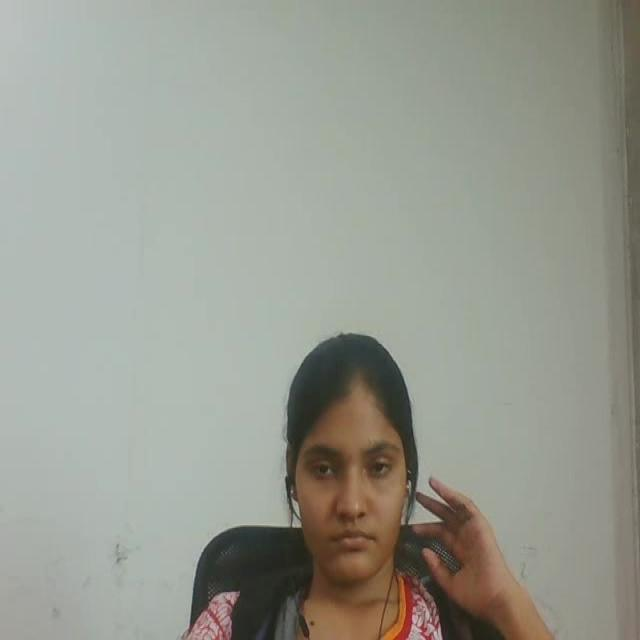Bored: (250, 323, 450, 611)
